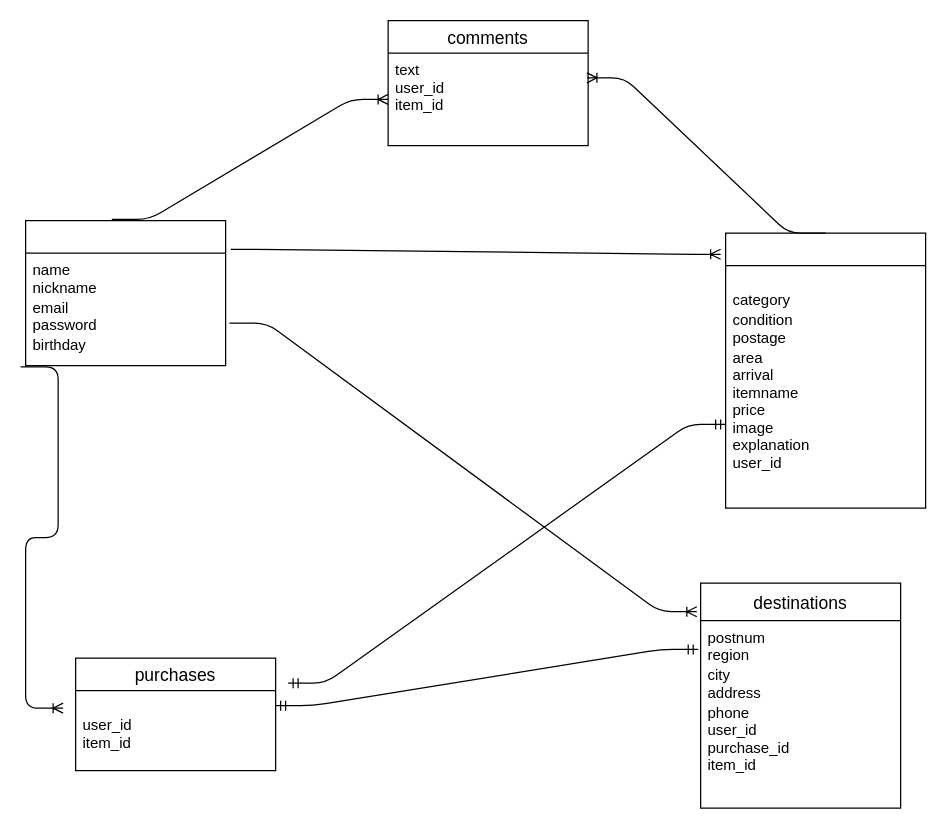
Image size: 946x829. Some labels were removed from this diagram. Each missing label, with the box of its shape:
items: (724, 232, 926, 508)
users: (24, 219, 226, 366)
